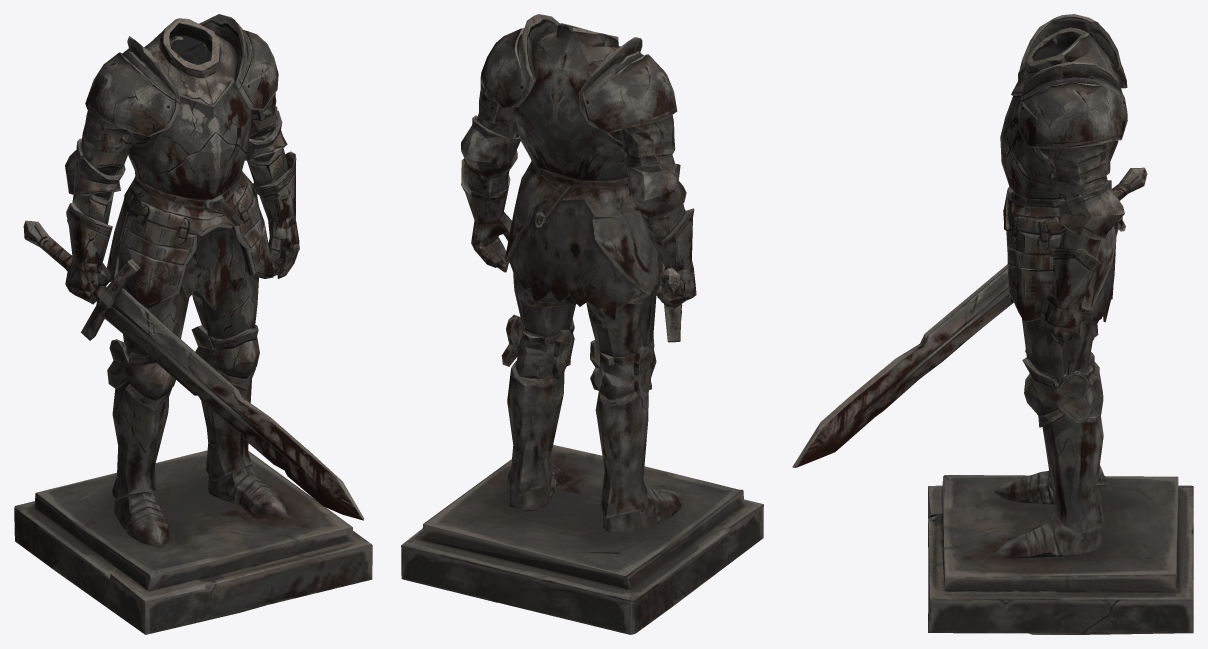
The model's file is prop-knight-statue.glb.
3 renders of one model, left to right at view 1: azimuth 30°, elevation 25°; view 2: azimuth 150°, elevation 25°; view 3: azimuth 270°, elevation 25°, orthographic.
Size of the model in its own units: 0.9221 by 1.9 by 1.27.
1 material, 1 textured.
